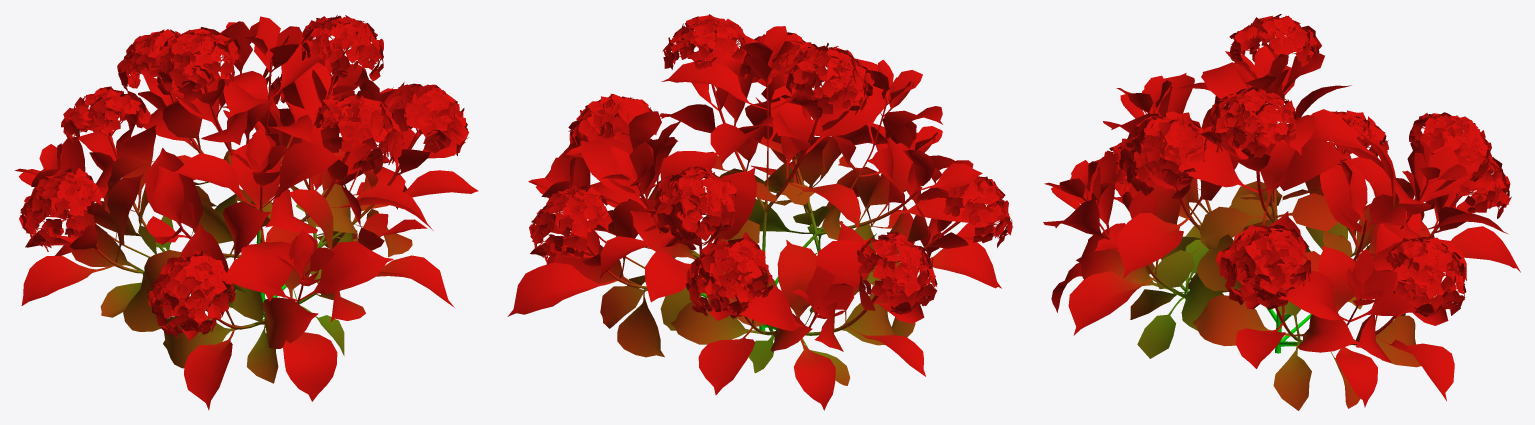
File: Var1_LOD2.fbx
3 renders of one model, left to right at view 1: azimuth 30°, elevation 25°; view 2: azimuth 150°, elevation 25°; view 3: azimuth 270°, elevation 25°, orthographic.
Parts seen in each view (by area): view 1: _15bo_Var1_LOD2; view 2: _15bo_Var1_LOD2; view 3: _15bo_Var1_LOD2.
Boxes of the visible parts, x1,y1,x2,y2 form: _15bo_Var1_LOD2: (14,14,478,410); _15bo_Var1_LOD2: (507,14,1012,410); _15bo_Var1_LOD2: (1043,14,1520,410).
Bounding box in the file's own units: 104 × 73.33 × 105.
